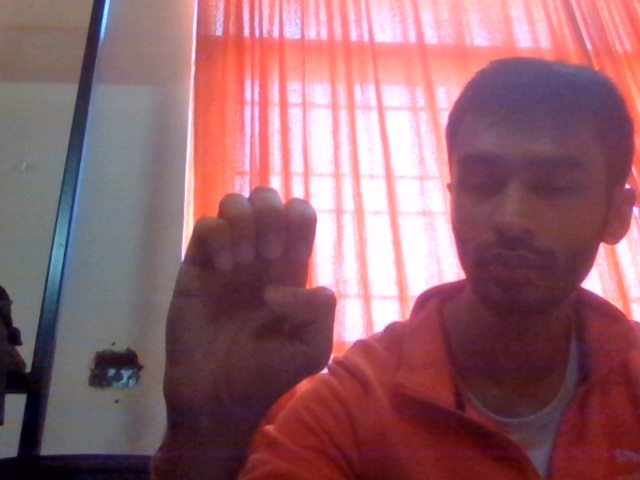E: (155, 162, 356, 480)
